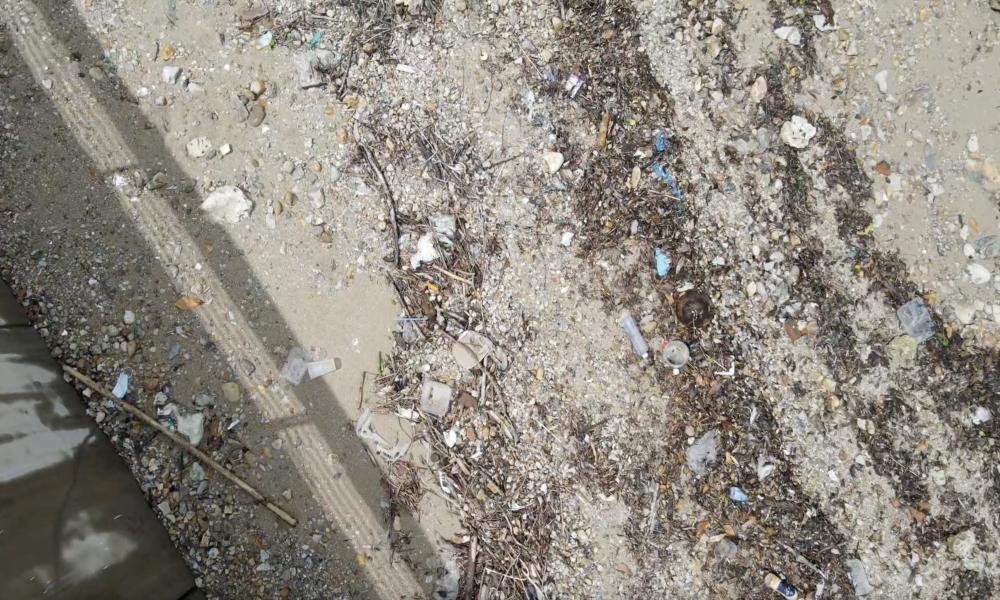plastic bag: (684, 421, 732, 476)
plastic bottle: (613, 310, 654, 369), (759, 561, 818, 600)
plastic container: (890, 294, 942, 347), (415, 367, 458, 424), (275, 346, 314, 391), (657, 324, 691, 374), (304, 350, 348, 376)
